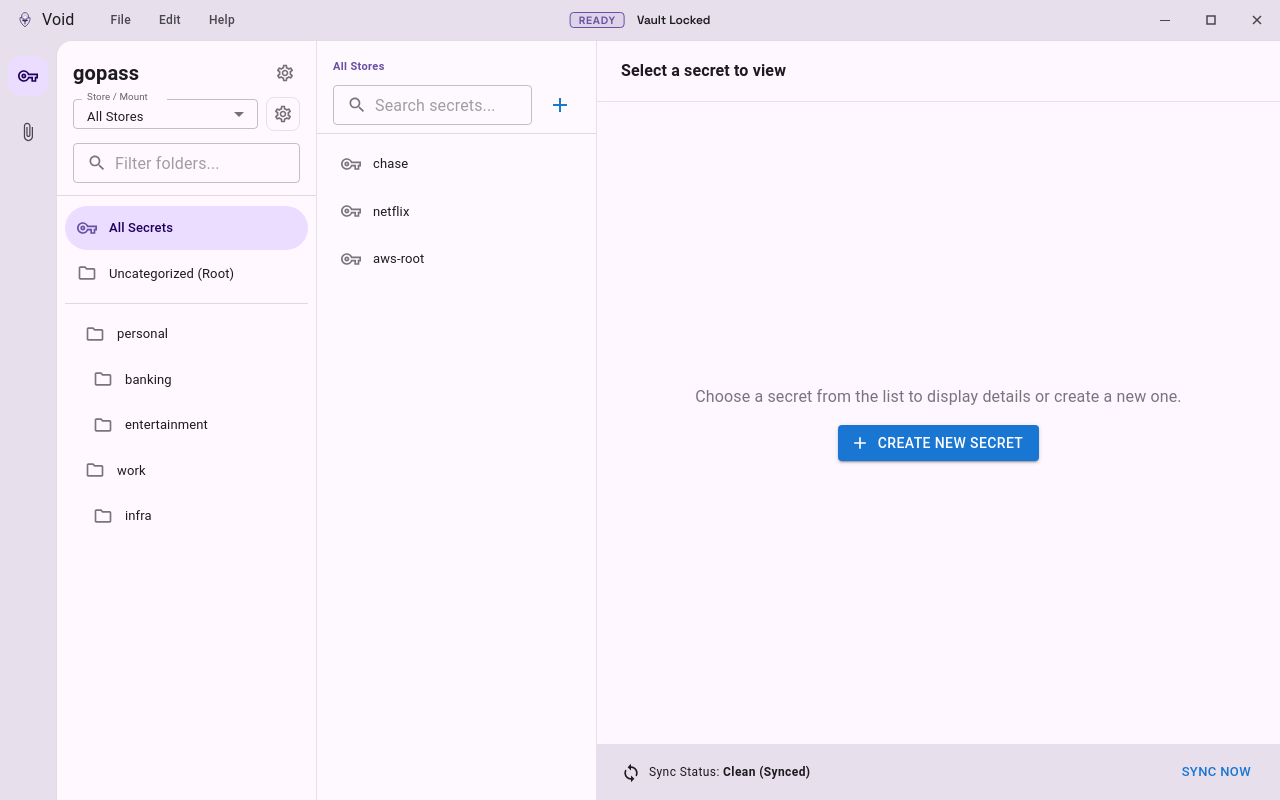
Test case: Dashboard Component › renders custom menu bar and opens help menu options
expect the button "File" is shown: met, box [98,7,143,33]
expect the button "Edit" is shown: met, box [147,7,193,33]
// Click Help to open menu dropdown
Click the button "Help": (222, 20) [197,7,247,33]
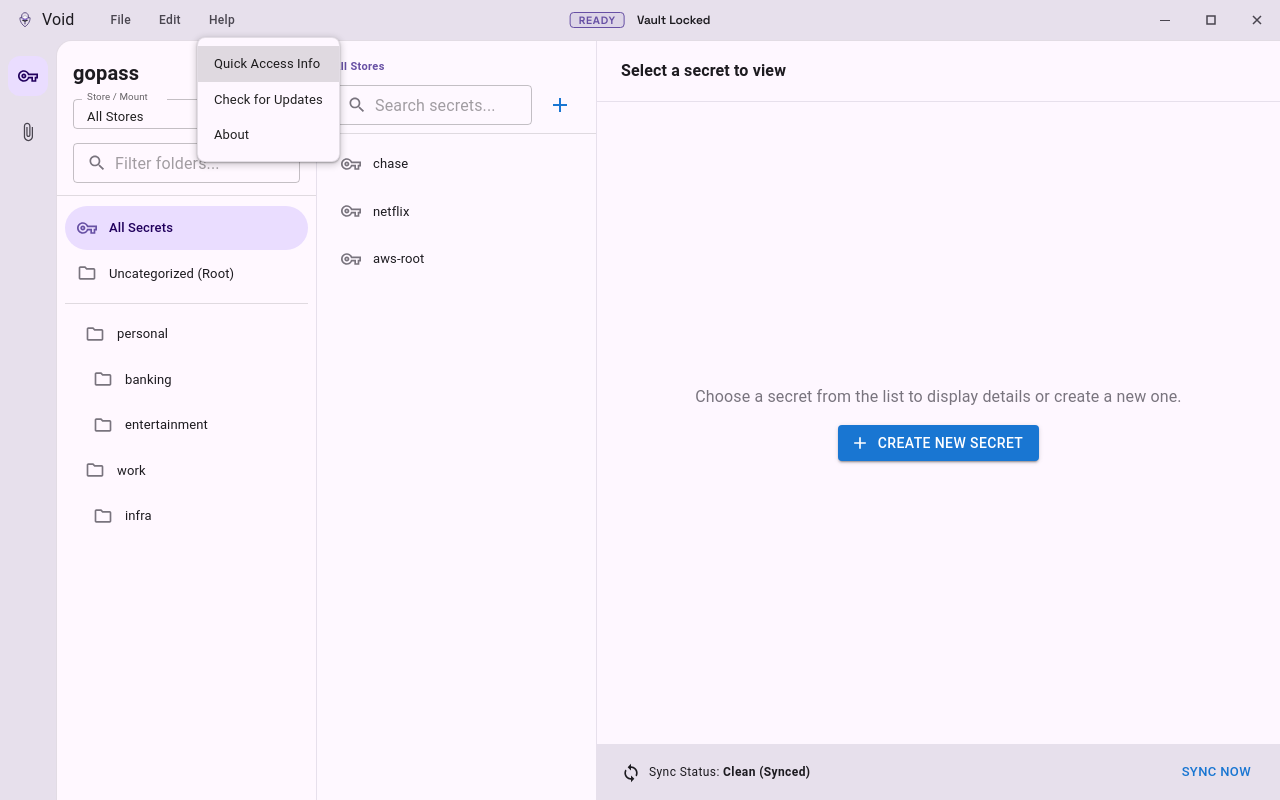
expect the menu item "About" is shown: met, box [214,127,249,142]
